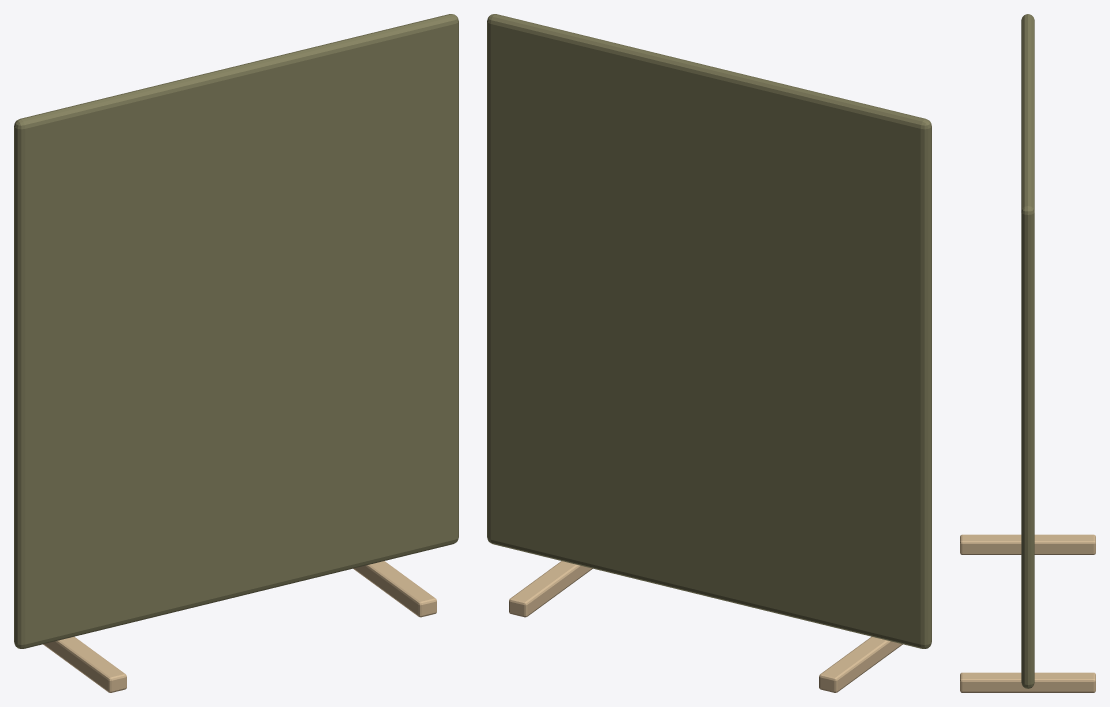
The model's file is partitions___dividers_asset_catalog_33.glb.
3 renders of one model, left to right at view 1: azimuth 30°, elevation 25°; view 2: azimuth 150°, elevation 25°; view 3: azimuth 270°, elevation 25°, orthographic. The views are drawn at different scales.
Parts seen in each view (by area): view 1: Cube; view 2: Cube; view 3: Cube.
Part boxes in pixels (box(x1,y1,x2,y2)): Cube: box(14, 14, 458, 692); Cube: box(487, 14, 931, 692); Cube: box(960, 14, 1095, 692).
Bounding box in the file's own units: 1.2 × 1.45 × 0.35.
